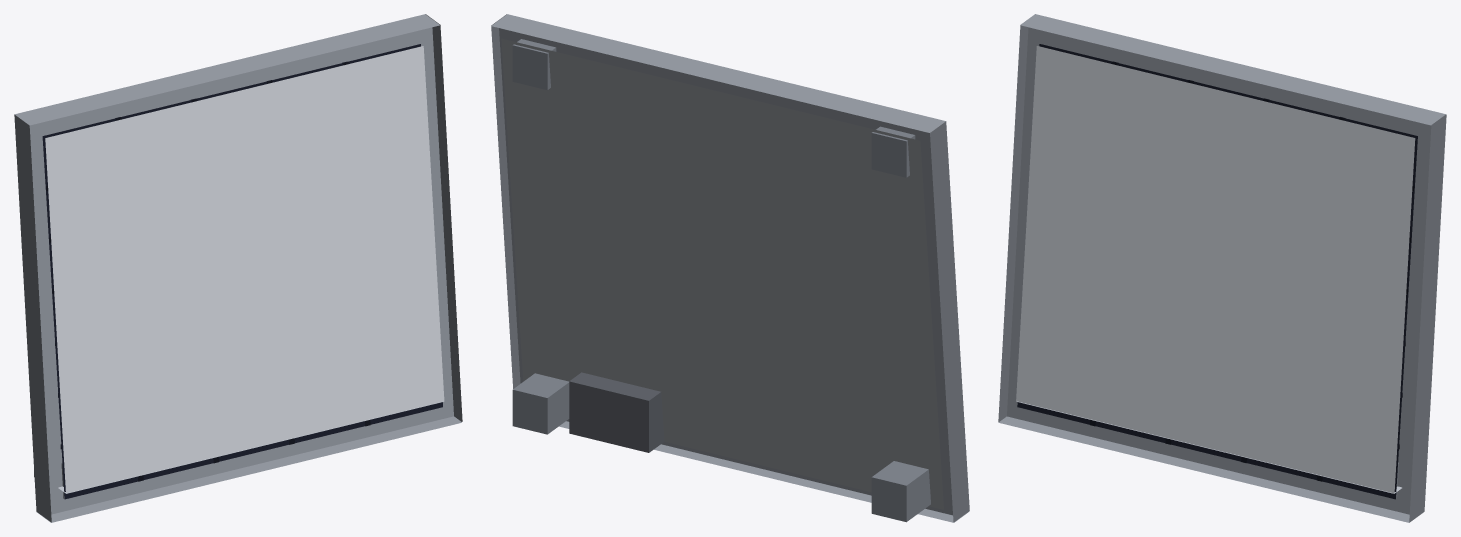
File: array_flat_premium_snow_S.obj
3 views of the same model, side by side, from view 1: azimuth 30°, elevation 25°; view 2: azimuth 150°, elevation 25°; view 3: azimuth 330°, elevation 25° (orthographic). The views are drawn at different scales.
Parts seen in each view (by area): view 1: array_flat_premium_snow_S; view 2: array_flat_premium_snow_S; view 3: array_flat_premium_snow_S.
Part boxes in pixels (x1,y1,x2,y2): array_flat_premium_snow_S: (14,14,462,522); array_flat_premium_snow_S: (491,14,969,522); array_flat_premium_snow_S: (998,14,1446,522).
Bounding box in the file's own units: 0.881 × 0.781 × 0.142.
1 material, 1 textured.
